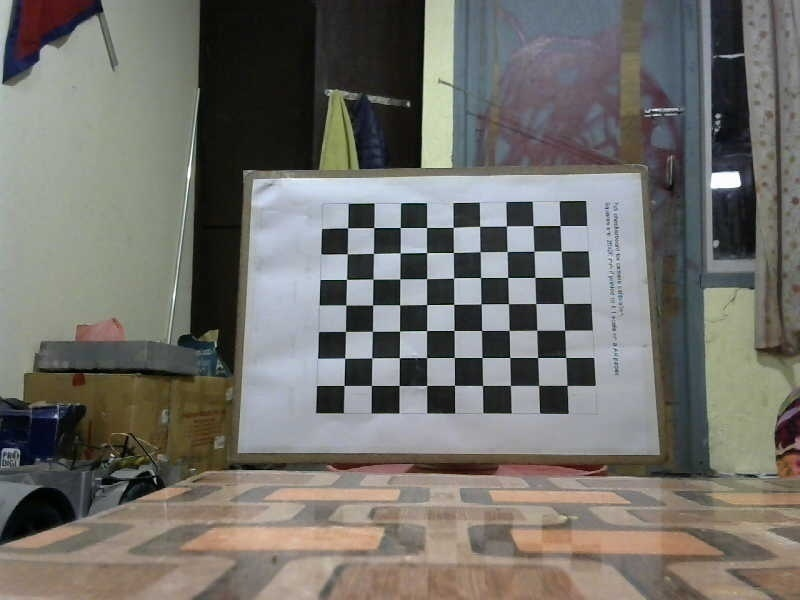block: (242, 168, 662, 457)
